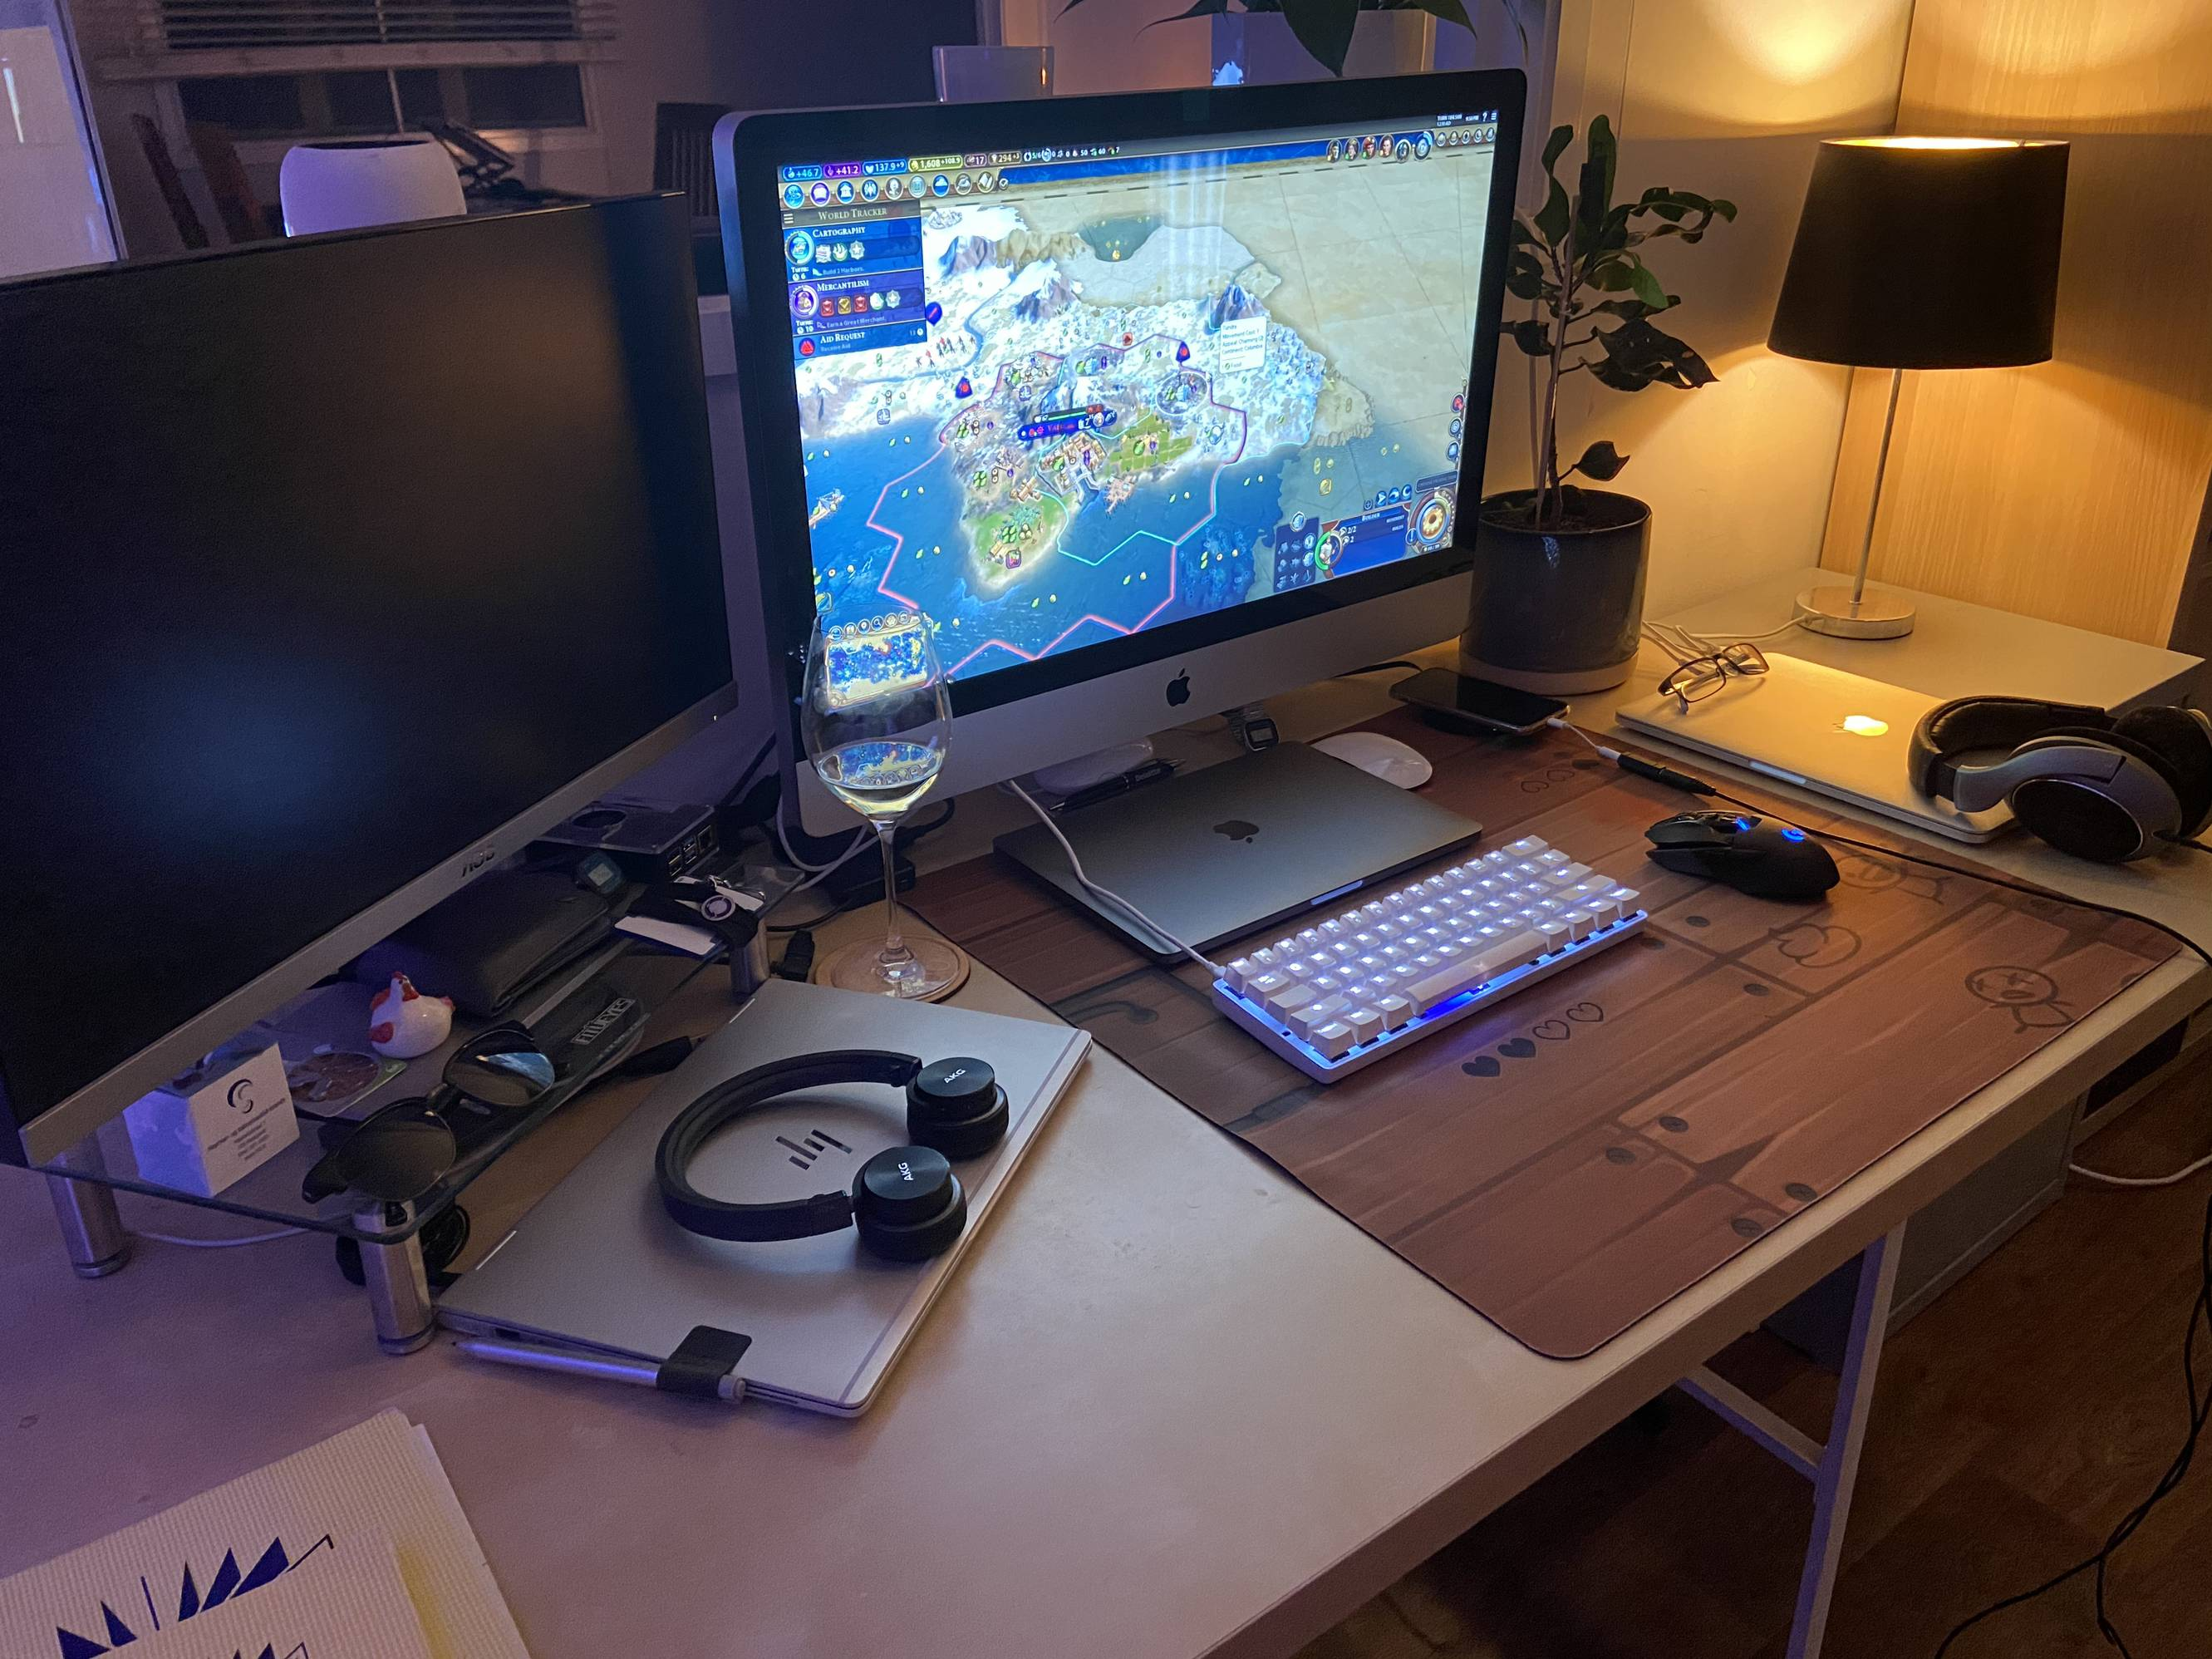Cellphone Charger (Wireless): (1414, 659, 1559, 748)
Decoration (Plant): (1465, 115, 1745, 699), (1057, 0, 1522, 70)
Desk (Generic): (12, 563, 2212, 1650)
Headphones: (653, 1047, 1019, 1256), (1904, 657, 2212, 873)
Keyboard (Gaming): (1186, 828, 1689, 1094)
Lamp (Desk): (1742, 127, 2090, 655)
Laptop (OSX): (1003, 739, 1498, 960), (1627, 636, 2048, 866)
Laptop (Windows): (455, 971, 1101, 1448)
Monitor (Landscape): (0, 181, 737, 1166)
Monitor (iMac): (700, 54, 1534, 849)
Mouse (Gaming): (1649, 795, 1862, 897)
Mouse (Generic): (1320, 708, 1446, 786)
Mousepad (Gaming): (920, 666, 2182, 1398)
